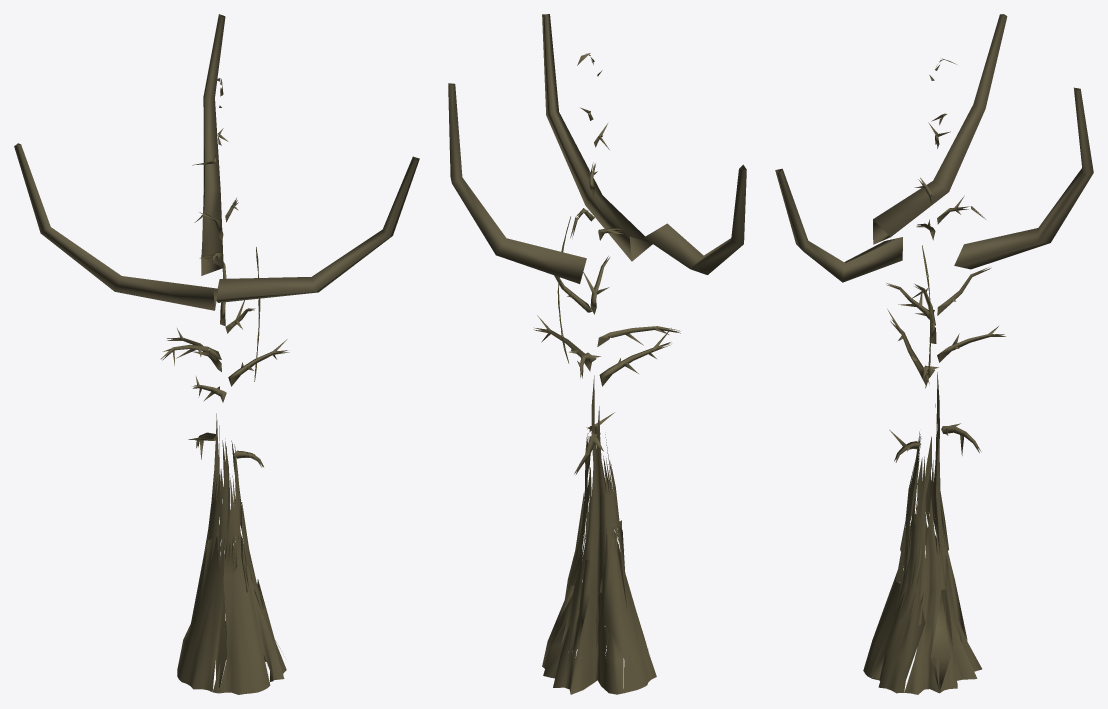
Rendered from jungle_mort2_l1.glb.
3 views of the same model, side by side, from view 1: azimuth 30°, elevation 25°; view 2: azimuth 150°, elevation 25°; view 3: azimuth 270°, elevation 25° (orthographic). The views are drawn at different scales.
Visible parts, largest first — view 1: cypres_chauve_cypreschauve_bark_D_cypreschauve_bark_D_0, bald_cypress_03:Mesh_bald_cypress_03:Branches_3_0.002, bald_cypress_03:Mesh_bald_cypress_03:Branches_3_0.001, bald_cypress_03:Mesh_bald_cypress_03:Branches_3_0; view 2: cypres_chauve_cypreschauve_bark_D_cypreschauve_bark_D_0, bald_cypress_03:Mesh_bald_cypress_03:Branches_3_0.001, bald_cypress_03:Mesh_bald_cypress_03:Branches_3_0, bald_cypress_03:Mesh_bald_cypress_03:Branches_3_0.002; view 3: cypres_chauve_cypreschauve_bark_D_cypreschauve_bark_D_0, bald_cypress_03:Mesh_bald_cypress_03:Branches_3_0.002, bald_cypress_03:Mesh_bald_cypress_03:Branches_3_0, bald_cypress_03:Mesh_bald_cypress_03:Branches_3_0.001.
Boxes of the visible parts, x1,y1,x2,y2 form: cypres_chauve_cypreschauve_bark_D_cypreschauve_bark_D_0: (160,78,289,694); bald_cypress_03:Mesh_bald_cypress_03:Branches_3_0.002: (14,143,218,310); bald_cypress_03:Mesh_bald_cypress_03:Branches_3_0.001: (216,156,419,302); bald_cypress_03:Mesh_bald_cypress_03:Branches_3_0: (201,14,225,275); cypres_chauve_cypreschauve_bark_D_cypreschauve_bark_D_0: (534,53,680,694); bald_cypress_03:Mesh_bald_cypress_03:Branches_3_0.001: (542,14,652,261); bald_cypress_03:Mesh_bald_cypress_03:Branches_3_0: (448,83,586,283); bald_cypress_03:Mesh_bald_cypress_03:Branches_3_0.002: (643,164,746,274); cypres_chauve_cypreschauve_bark_D_cypreschauve_bark_D_0: (863,58,1005,694); bald_cypress_03:Mesh_bald_cypress_03:Branches_3_0.002: (873,14,1007,244); bald_cypress_03:Mesh_bald_cypress_03:Branches_3_0: (954,87,1093,269); bald_cypress_03:Mesh_bald_cypress_03:Branches_3_0.001: (775,168,902,282).
Size of the model in its own units: 12.43 by 23.36 by 10.97.
Materials: 3 (1 with a texture image).
